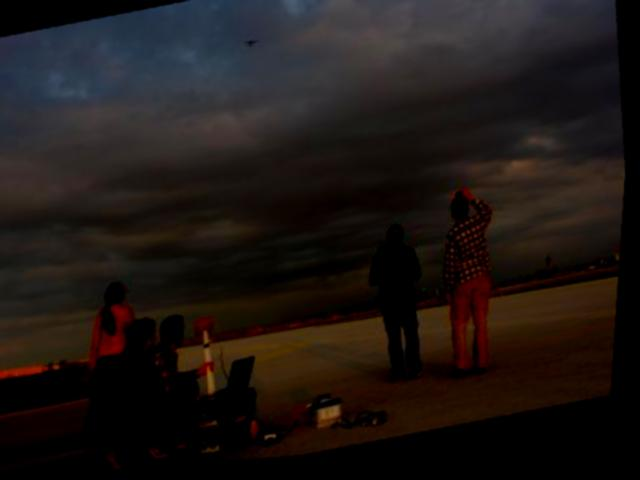uav: (244, 38, 260, 51)
